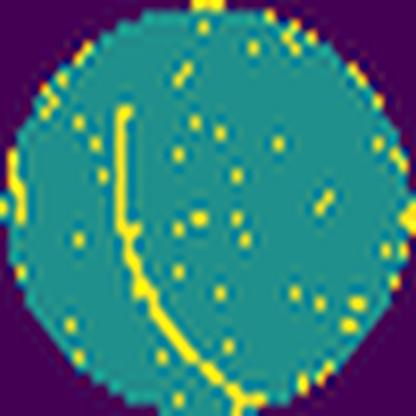Scratch: (107, 97, 270, 416)
